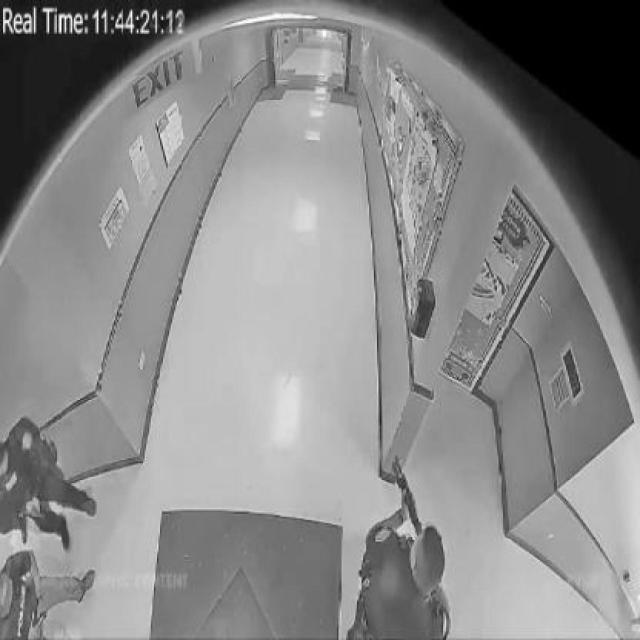weapon: (389, 455, 451, 640)
